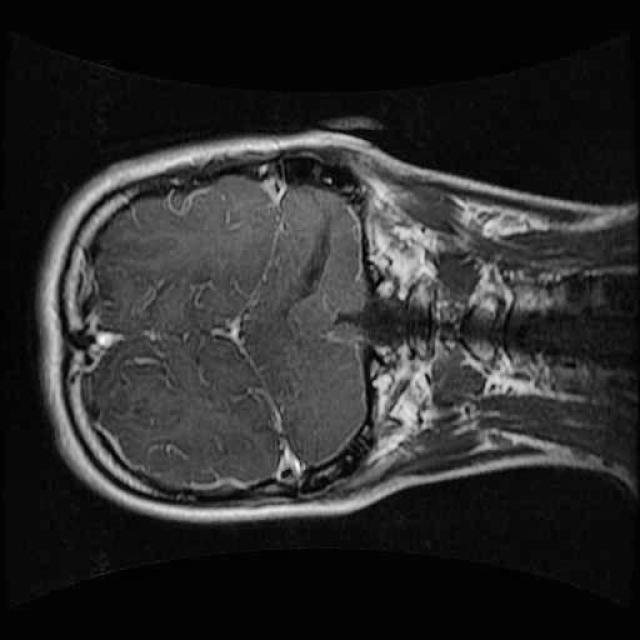Tumor: (267, 203, 354, 322)
